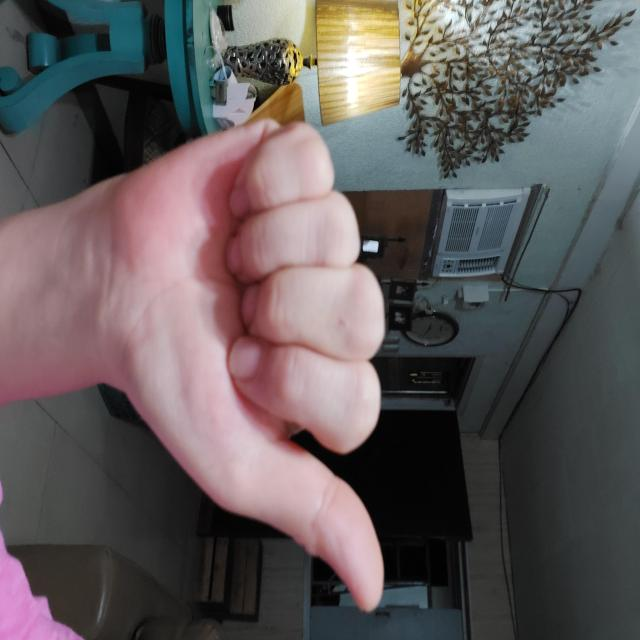A: (118, 256, 613, 538)
